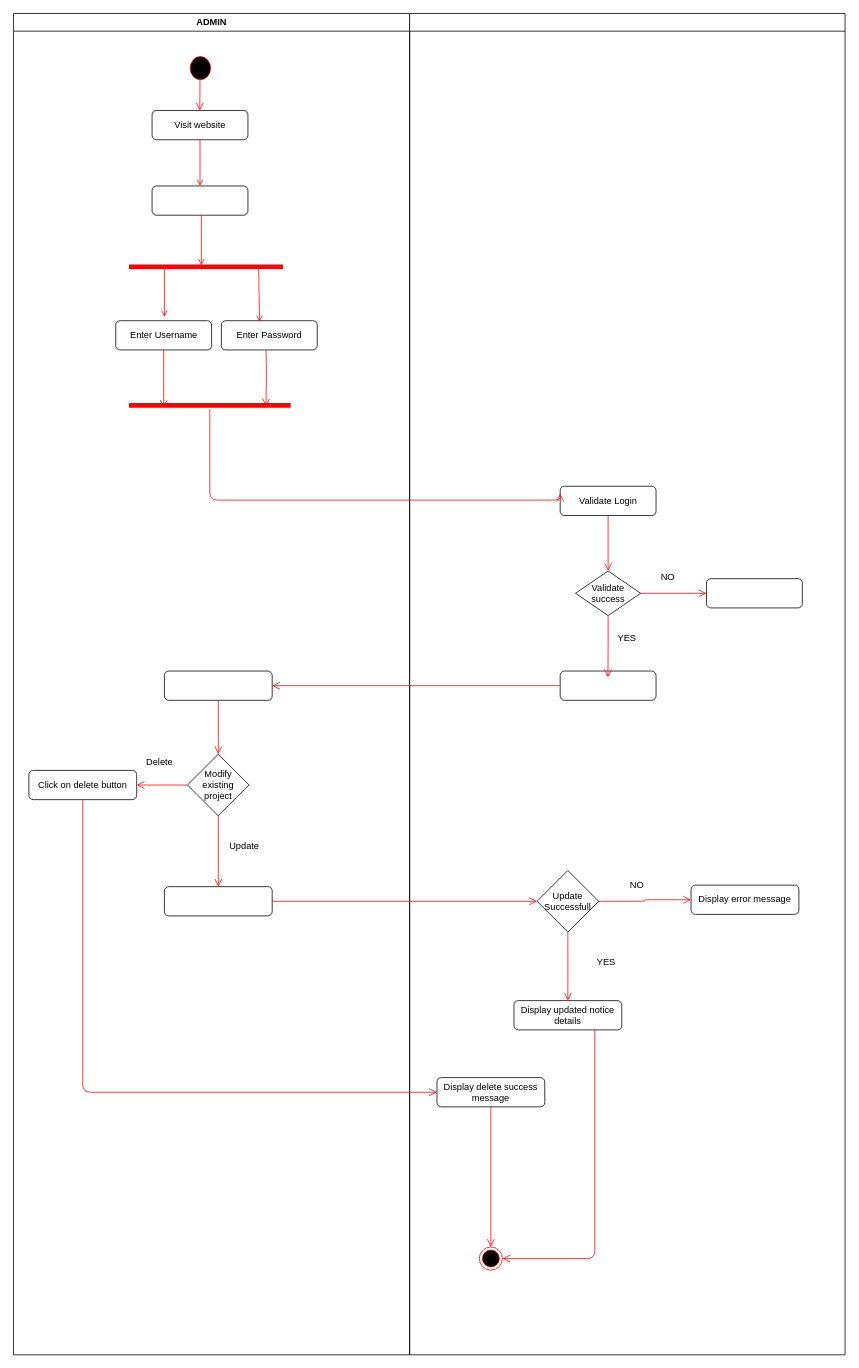
Image size: 859x1368. Some labels were removed from this diagram. The shapes that lost their labels are listed below. From the top down, each one's box as (x1, y1, x2, y2) in pixels, then its label:
(151, 185, 248, 215): Login to the account
(706, 578, 802, 608): Display eroor message
(164, 670, 272, 700): Go to the notice details
(559, 670, 656, 700): Log in to the site
(409, 13, 845, 1355): SYSTEM
(164, 886, 272, 916): Update notice details
